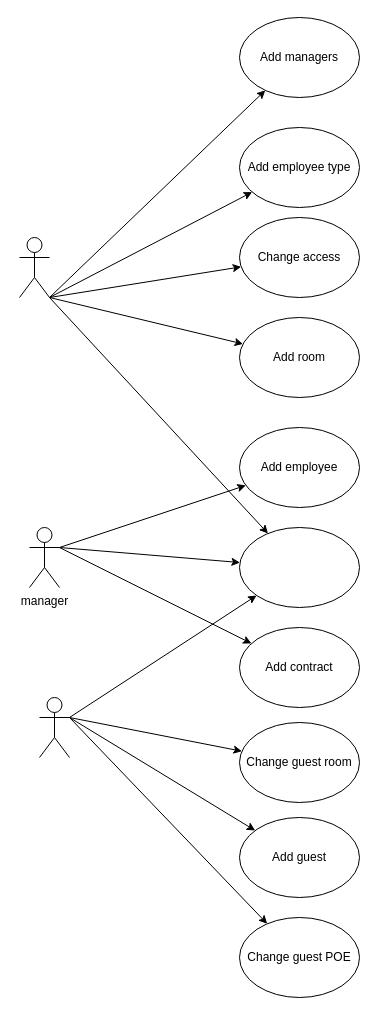
Some shapes in this 377 by 1015 pixel diagram are drawn without their labels. Here are the shapes that lost their labels. From the top down, the centre of each, then its label:
At point (34, 267): "Admin".
At point (299, 567): "Log in".
At point (54, 727): "Employee".
